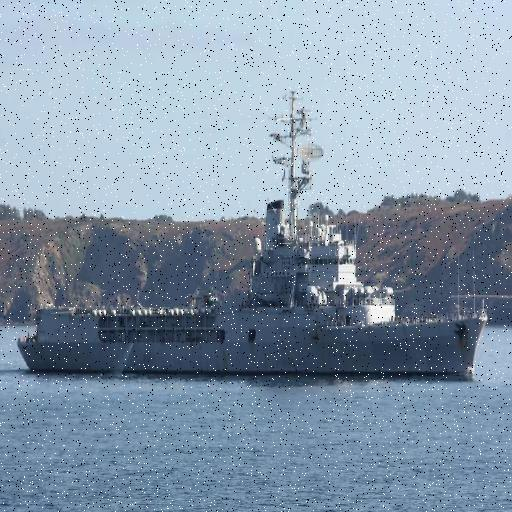Portanaves: (13, 84, 492, 391)
